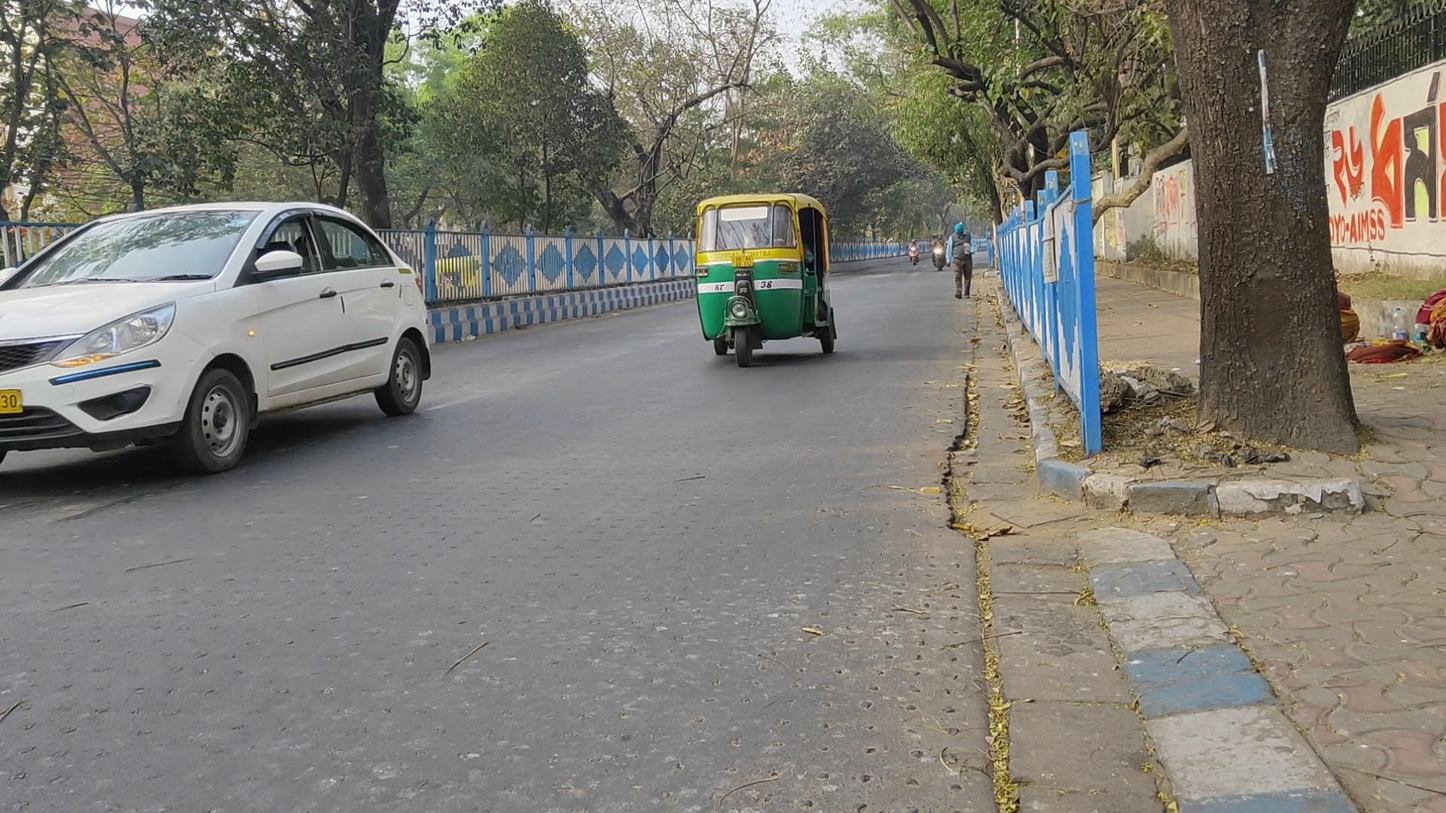Auto: (693, 191, 836, 367)
bike: (930, 231, 949, 272), (908, 238, 921, 266)
car: (2, 199, 430, 474)
